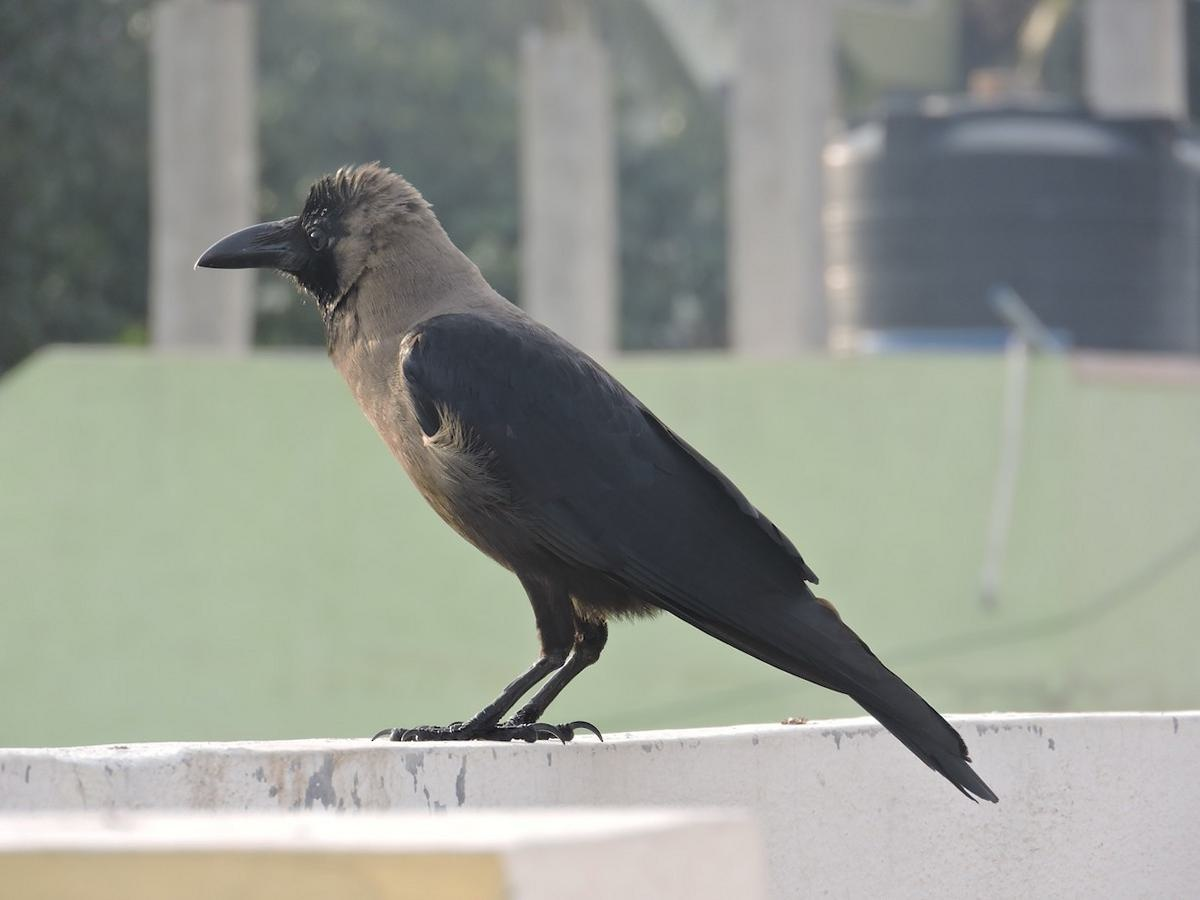crow: (191, 158, 998, 822)
